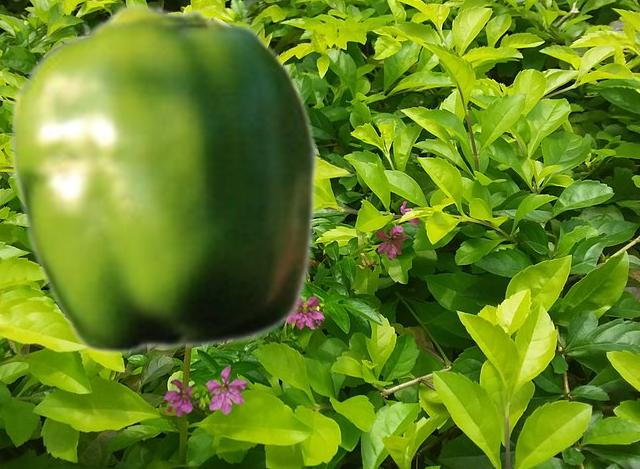bell_pepper: (9, 1, 318, 355)
